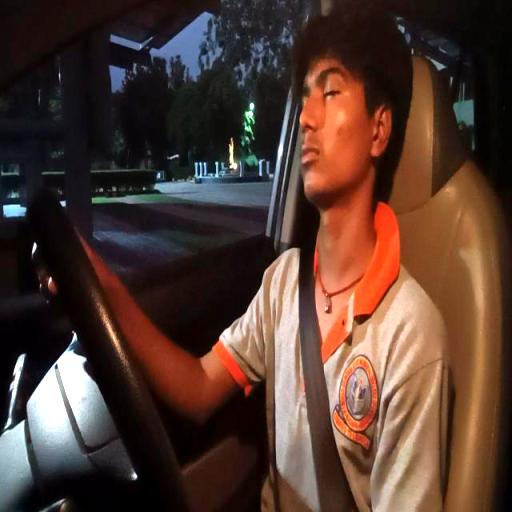sleepy: (292, 14, 402, 232)
